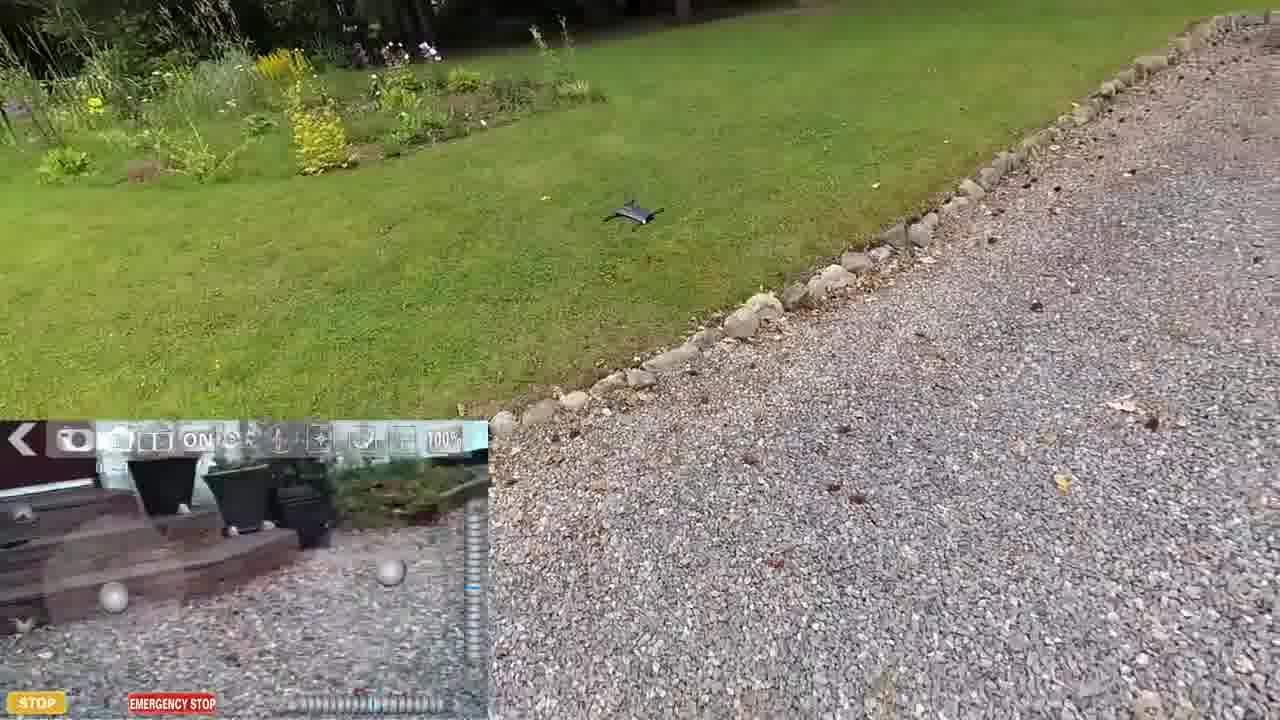drone: (589, 185, 665, 234)
